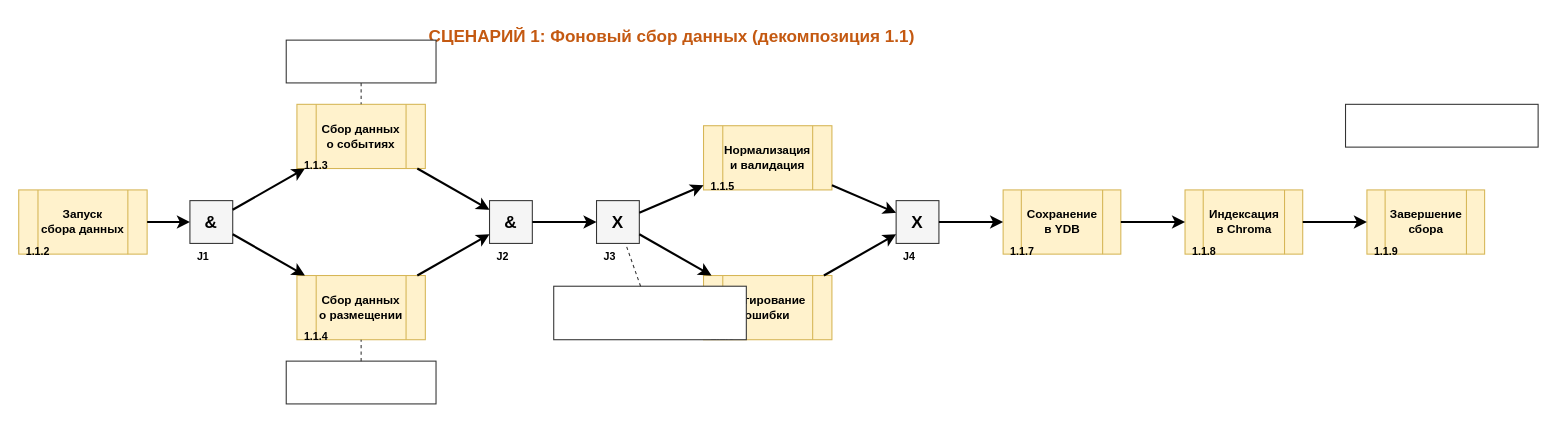
The diagram is 1557 pixels wide and 423 high, and some of its shapes have lost their labels. The shapes that lost their labels are listed below. From the top down, each one's centre as x and y in pixels, then its label:
At pixel 360 61: "OBJECT/ irk.ru, culture38.ru".
At pixel 1441 125: "NOTE/ Запускается по расписанию (GitHub Actions, 1 раз в день)".
At pixel 649 312: "ELAB/ Если данные валидны → Нормализация. Если ошибка источника → Логирование".
At pixel 360 382: "OBJECT/ 101Hotels API".
